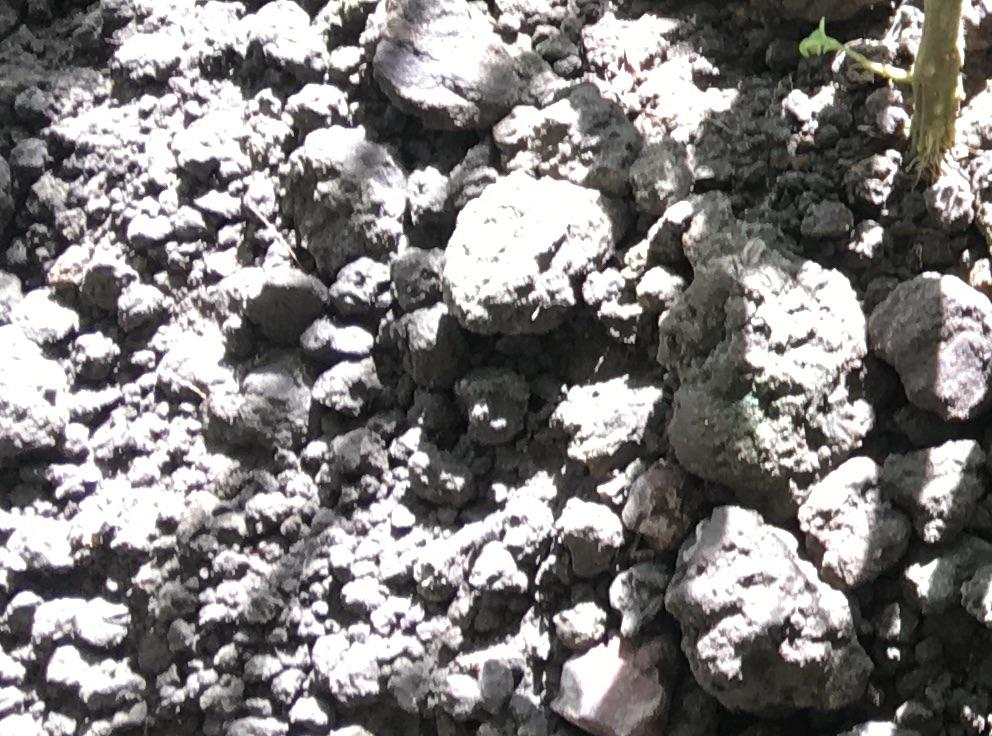block: (658, 193, 869, 489), (663, 503, 872, 712), (442, 160, 617, 337), (362, 1, 527, 133), (865, 269, 992, 419)
